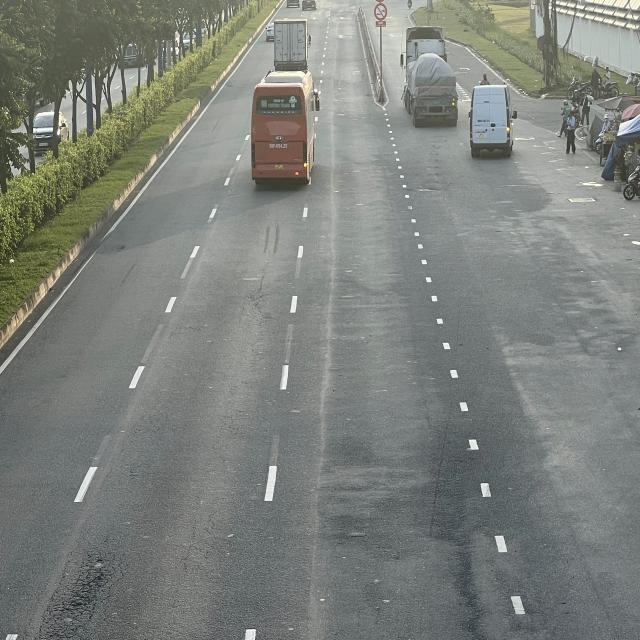coach: (250, 72, 320, 187)
container: (402, 27, 458, 127)
truck: (271, 18, 310, 72)
van: (470, 86, 516, 160)
